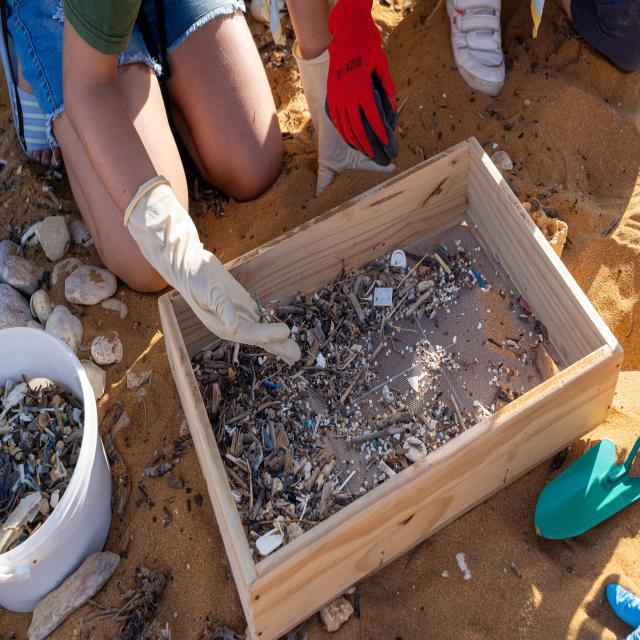Aluminium foil: (316, 354, 326, 368)
Bottle cap: (389, 249, 406, 270)
Other litter: (373, 286, 392, 307), (225, 425, 239, 437), (318, 289, 324, 298), (409, 346, 413, 353), (348, 309, 350, 315), (353, 308, 356, 312), (349, 309, 352, 312), (219, 445, 220, 450)
Other plastic: (605, 583, 640, 640), (0, 379, 29, 422), (0, 461, 20, 522), (12, 463, 41, 498), (470, 268, 485, 289), (41, 447, 49, 478), (344, 350, 356, 365), (265, 380, 280, 390), (19, 401, 25, 425), (60, 412, 70, 424), (47, 442, 52, 451), (439, 431, 444, 439), (396, 464, 402, 470), (298, 424, 303, 430), (372, 439, 376, 445), (308, 420, 312, 426), (356, 403, 359, 408), (379, 429, 384, 431), (289, 376, 292, 379), (313, 444, 315, 448), (340, 391, 342, 395), (289, 415, 291, 417)
Straw: (7, 412, 19, 424), (36, 407, 64, 412), (12, 408, 20, 413)
